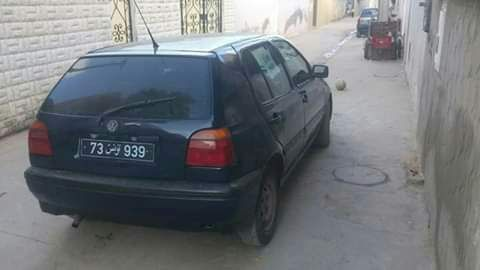LP: (78, 138, 153, 162)
